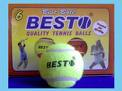tennis ball: (39, 42, 85, 88)
